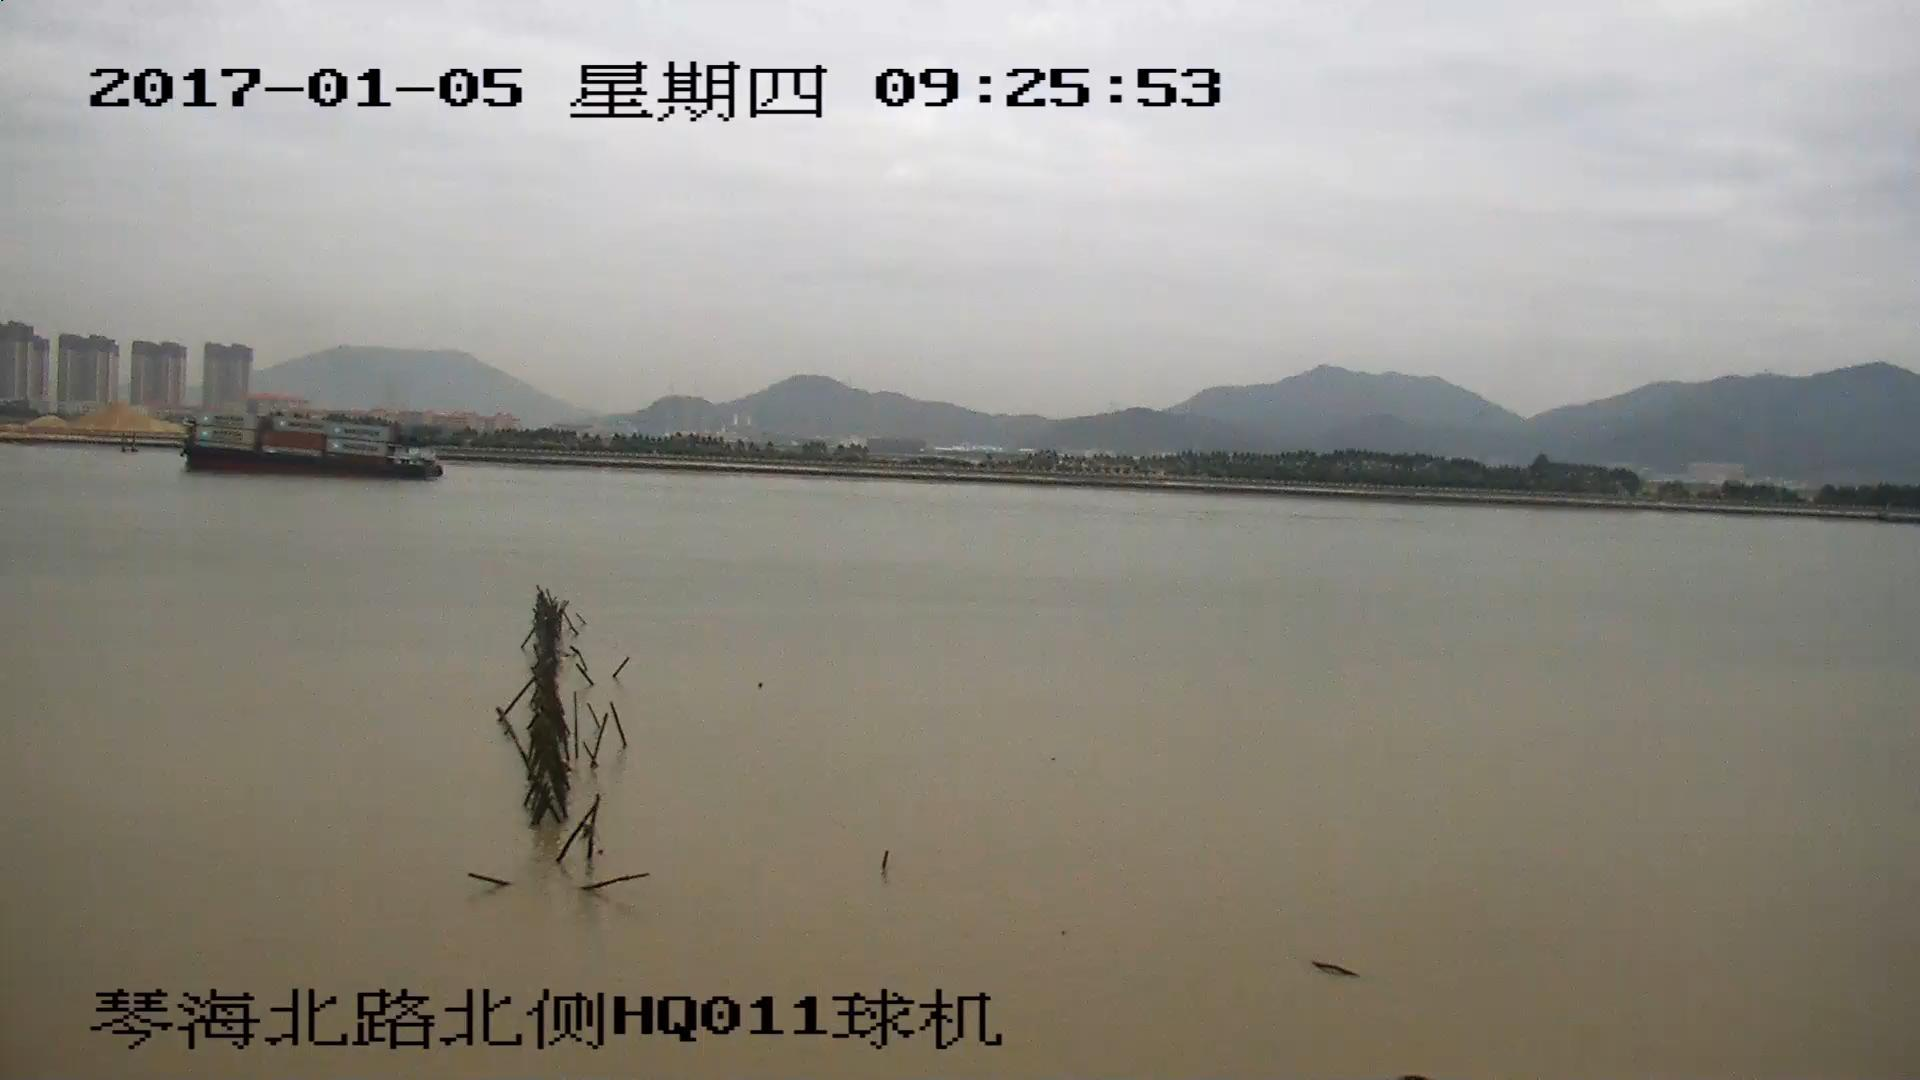Ship: (175, 417, 440, 483)
